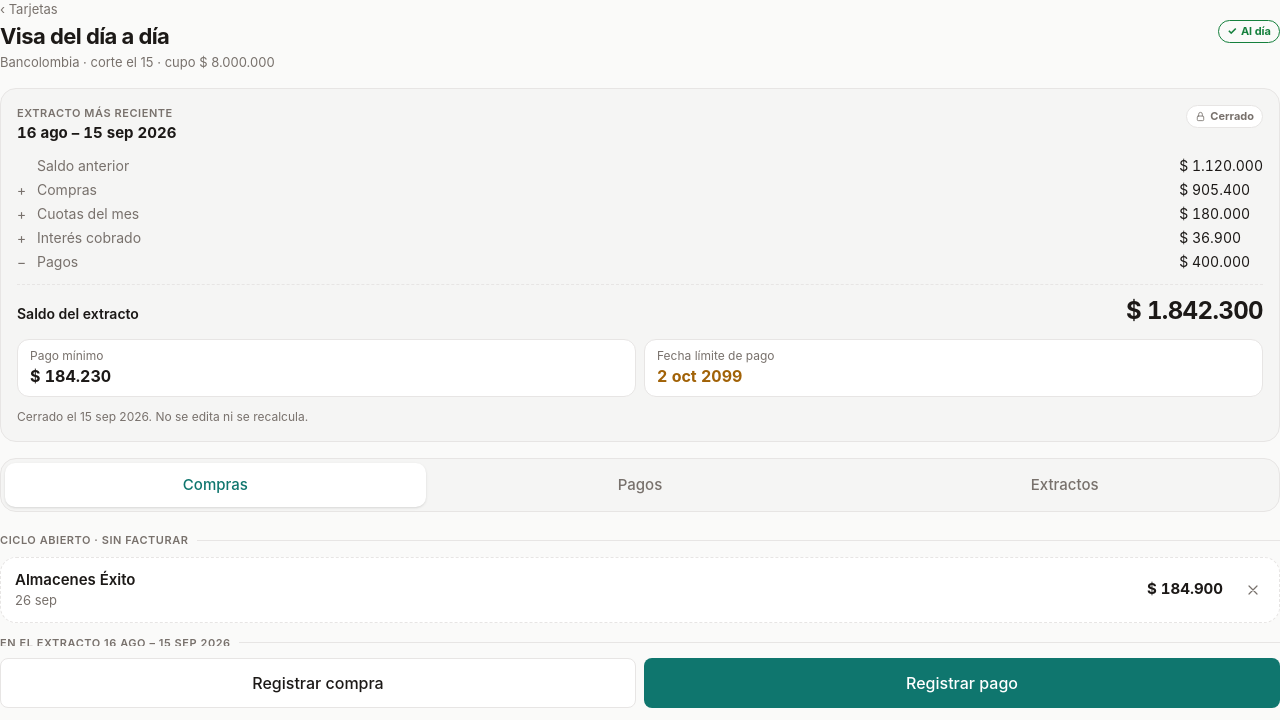
Test: CardDetailPage › uses the payment wording when a payment delete answers 409
Click the tab "Pagos" at (640, 485), box [430,463,850,507]
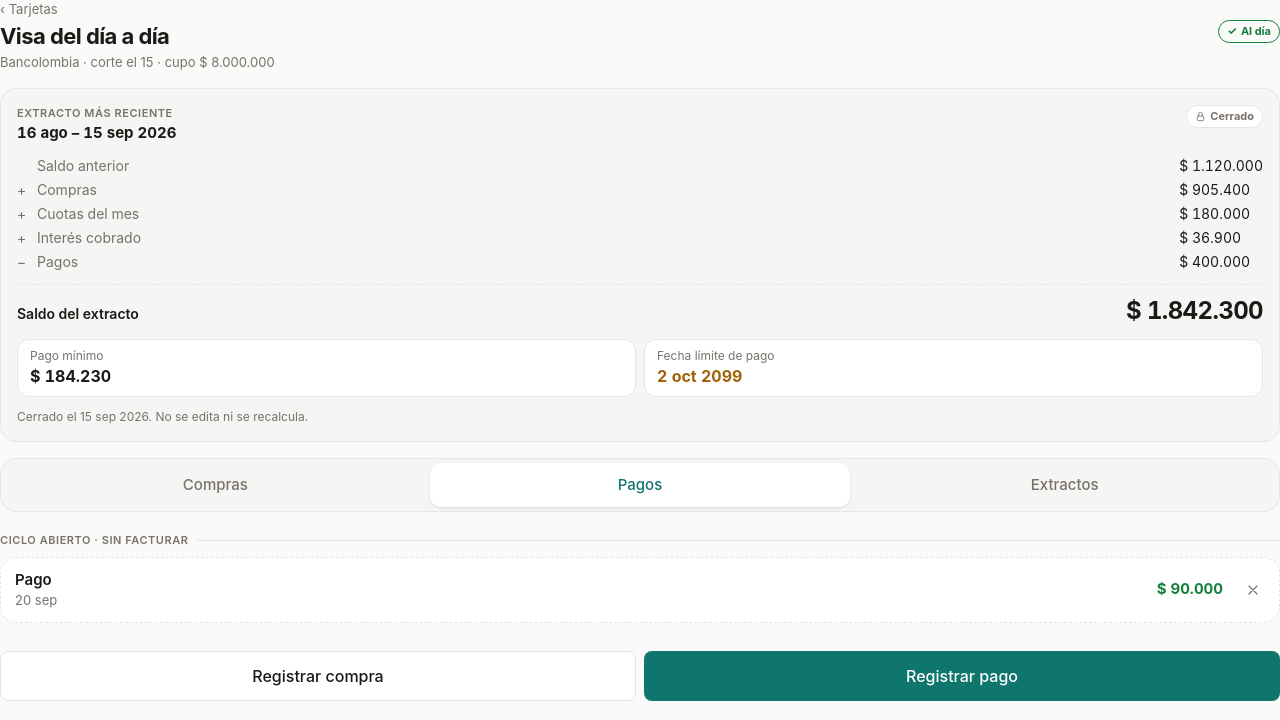
Click the button named "Borrar pago" at (1253, 590), box [1231,568,1275,612]
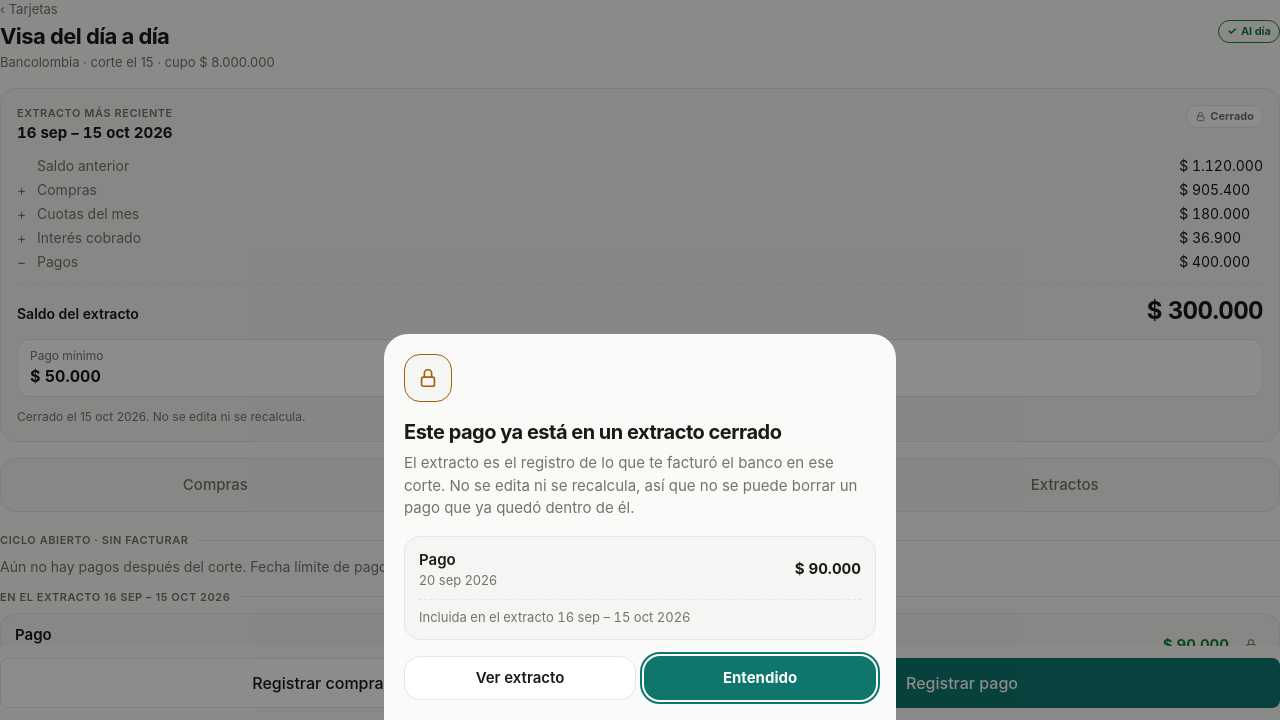
Check: the dialog "Este pago ya está en un extracto cerrado" is shown, box [384,334,896,719]
